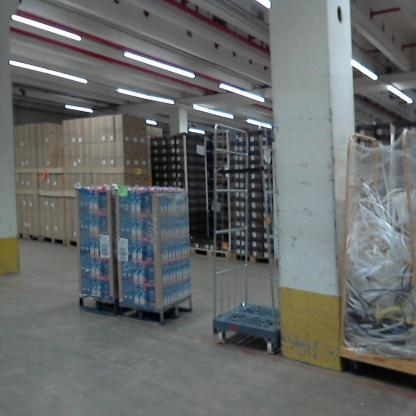pallet: (224, 247, 279, 266), (185, 243, 231, 260), (10, 224, 39, 241), (41, 237, 66, 249)
